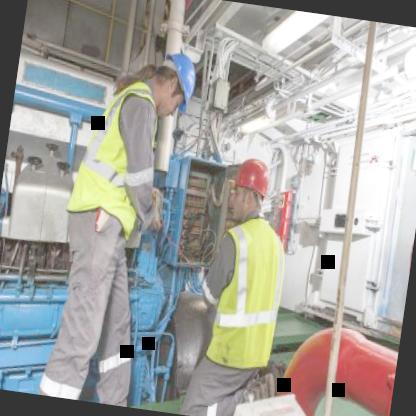helmet: (150, 40, 202, 124), (224, 151, 278, 226)
